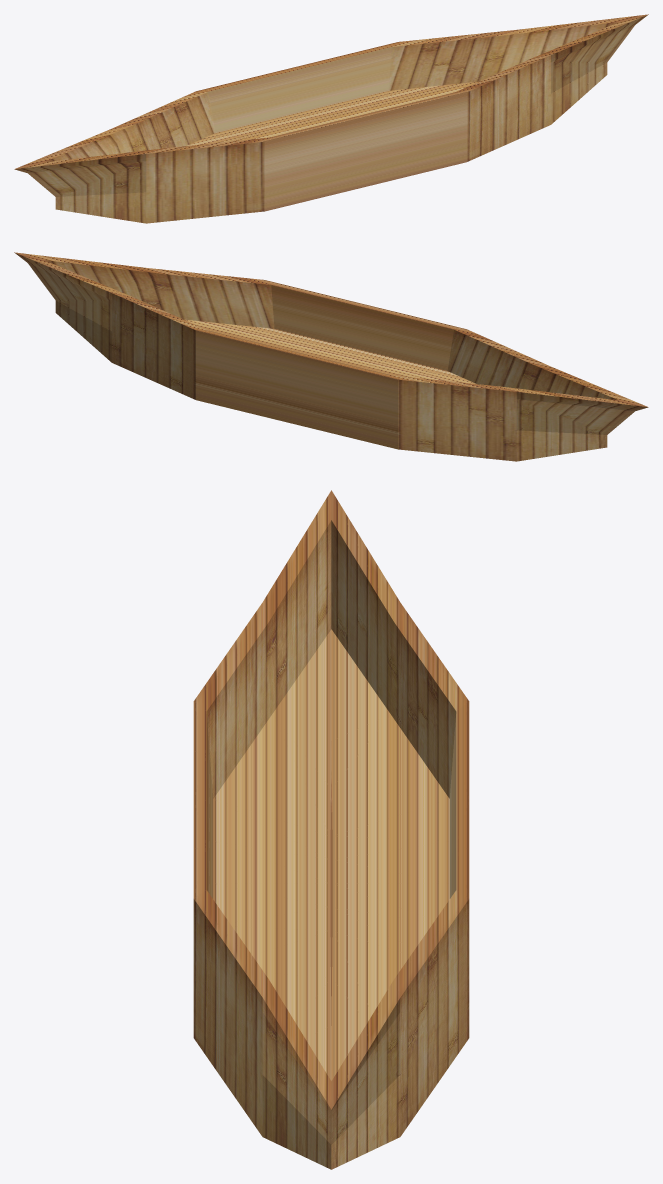
File: kayak.fbx
3 views of the same model, one above another, from view 1: azimuth 30°, elevation 25°; view 2: azimuth 150°, elevation 25°; view 3: azimuth 270°, elevation 25° (orthographic). The views are drawn at different scales.
Parts seen in each view (by area): view 1: pCube1; view 2: pCube1; view 3: pCube1.
Part boxes in pixels (x1,y1,x2,y2): pCube1: (14, 14, 648, 223); pCube1: (14, 252, 648, 461); pCube1: (193, 490, 469, 1169).
Size of the model in its own units: 5.32 by 0.6424 by 1.
